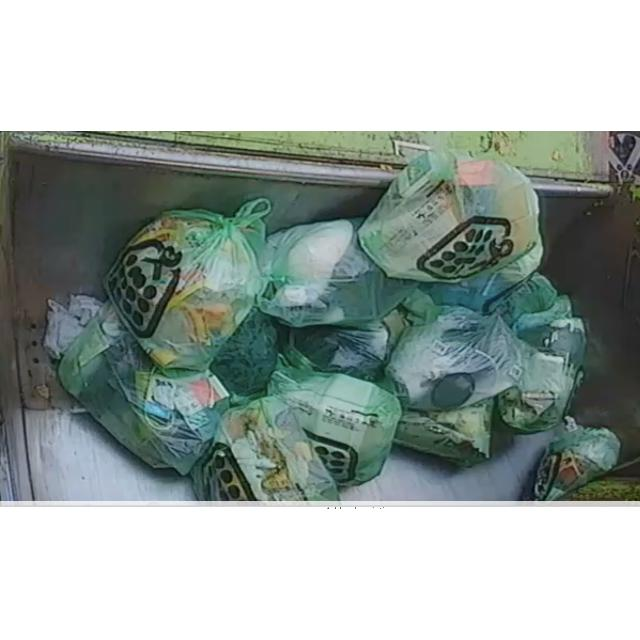general_trashbag: (59, 302, 228, 475), (104, 198, 271, 370), (359, 151, 539, 283), (258, 220, 416, 327), (269, 366, 401, 486), (191, 396, 339, 501), (386, 307, 534, 411), (498, 296, 586, 434), (419, 237, 544, 312), (284, 310, 409, 381), (394, 398, 494, 467), (498, 352, 582, 433), (535, 426, 620, 501), (210, 308, 278, 396), (488, 272, 558, 327)
